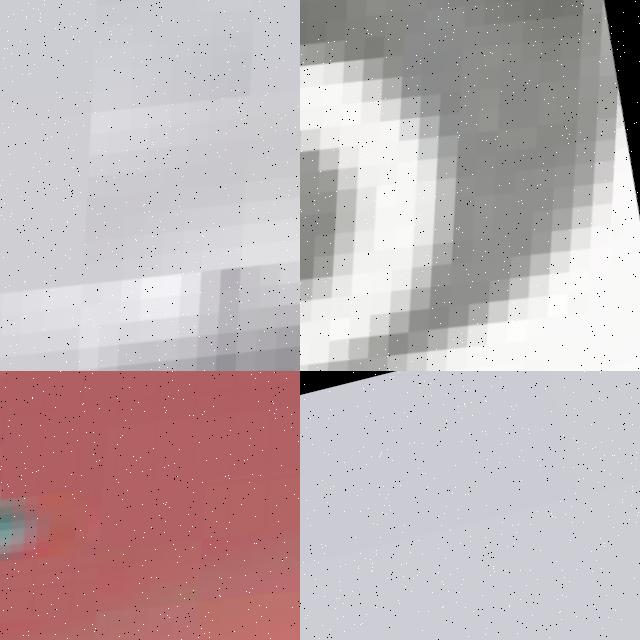drone: (300, 0, 640, 371), (0, 0, 300, 371), (0, 371, 300, 640)
